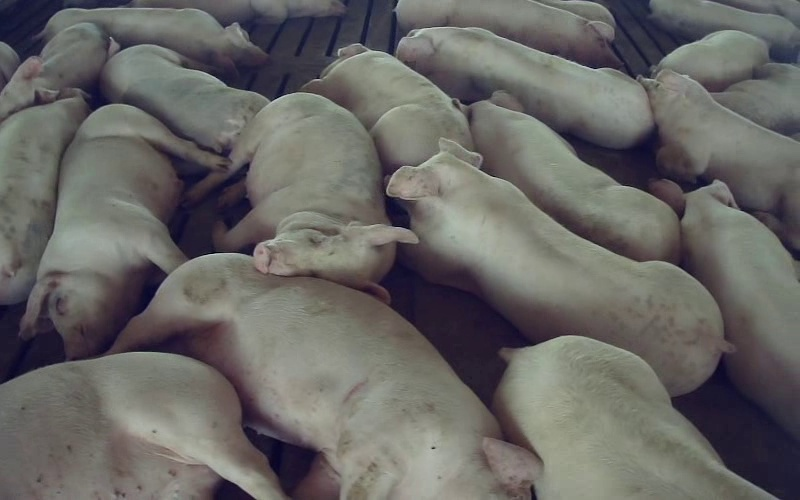pig: (111, 255, 541, 499), (386, 139, 728, 395), (20, 104, 227, 358), (186, 93, 416, 301), (493, 336, 775, 499), (453, 91, 680, 263), (651, 179, 799, 439), (396, 27, 653, 148), (637, 69, 799, 250), (301, 44, 472, 173), (100, 38, 269, 153), (0, 89, 89, 304), (395, 0, 621, 67), (38, 8, 267, 73), (0, 23, 110, 121), (653, 30, 768, 91), (712, 63, 799, 134)
